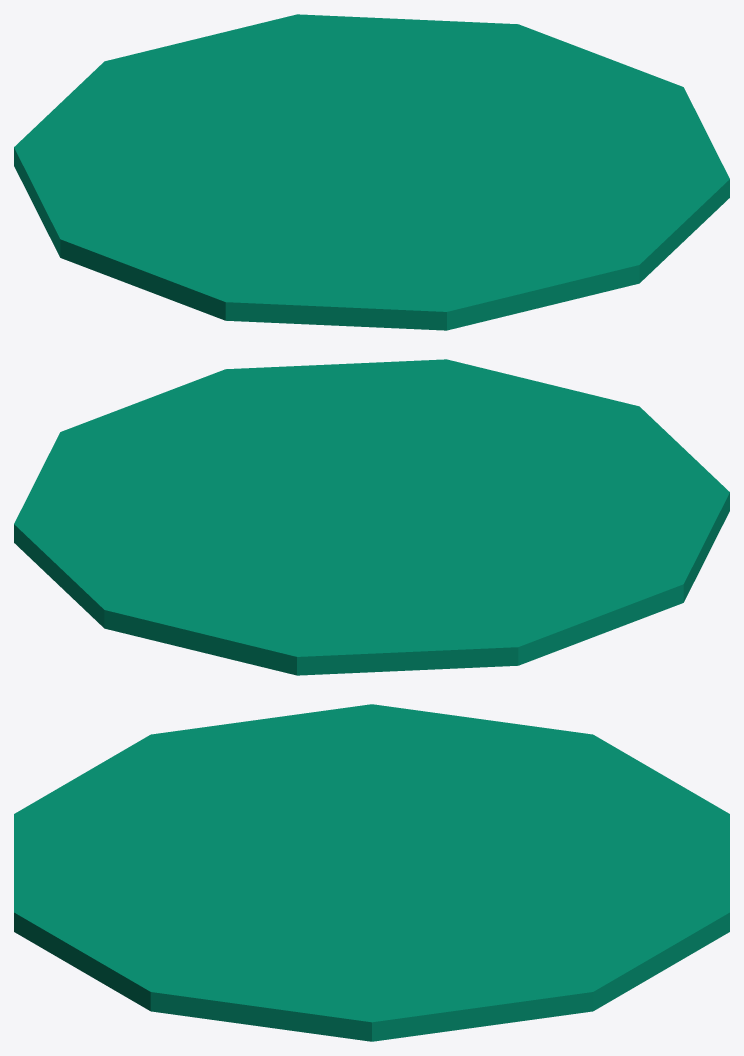
The model's file is gear_temp.fbx.
The picture shows the model from 3 angles, top to bottom: view 1: azimuth 30°, elevation 25°; view 2: azimuth 150°, elevation 25°; view 3: azimuth 270°, elevation 25°; orthographic projection. The views are drawn at different scales.
Parts seen in each view (by area): view 1: pCylinder1; view 2: pCylinder1; view 3: pCylinder1.
Boxes of the visible parts, <box> form: pCylinder1: <box>14,14,729,330</box>; pCylinder1: <box>14,359,729,675</box>; pCylinder1: <box>14,704,729,1041</box>.
Size of the model in its own units: 1400 by 40 by 1331.
